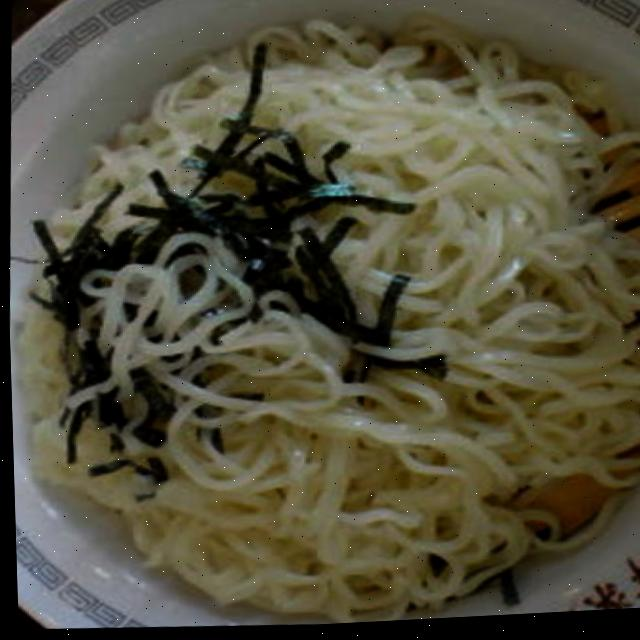面条主食: (14, 0, 640, 639)
